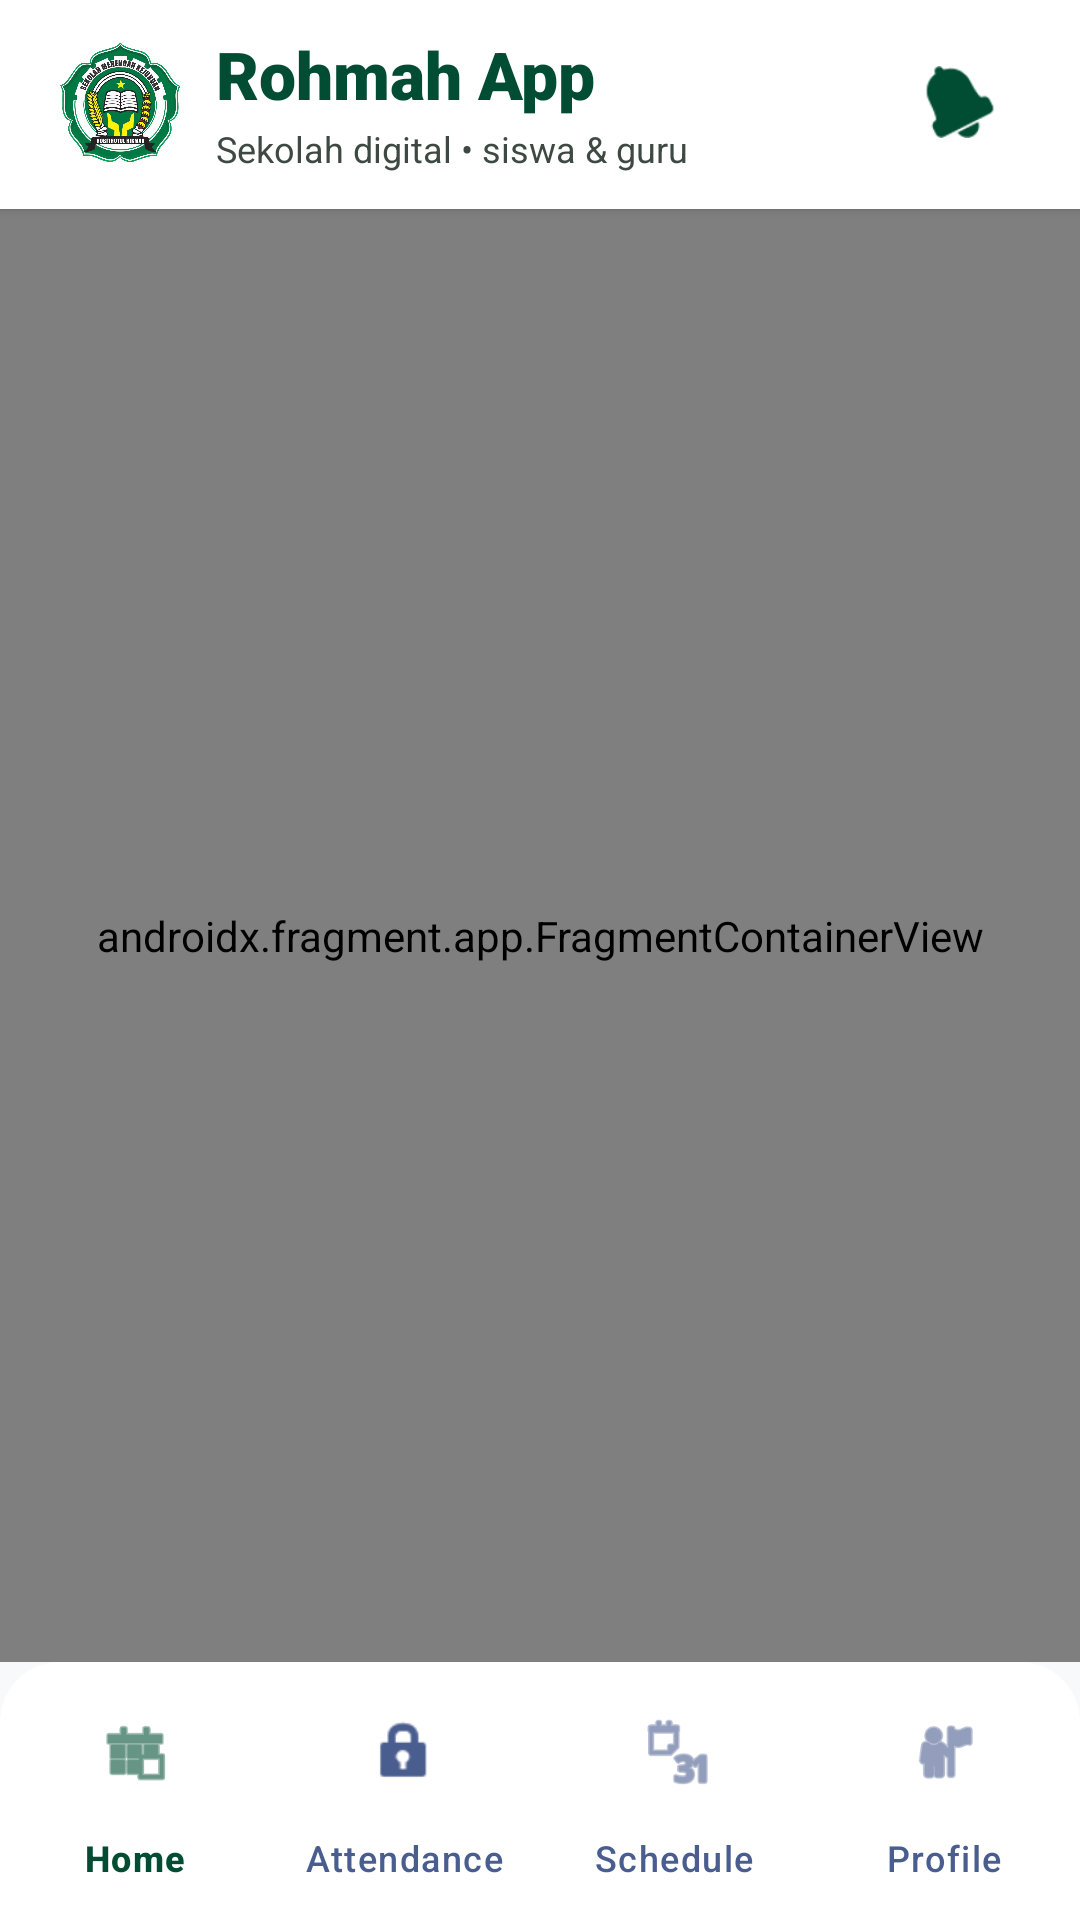

Icon bounding boxes for this 1080w x 1920h phone screenshot, format (x1, y1, x2, y2):
popup reminder: (926, 66, 994, 138)
